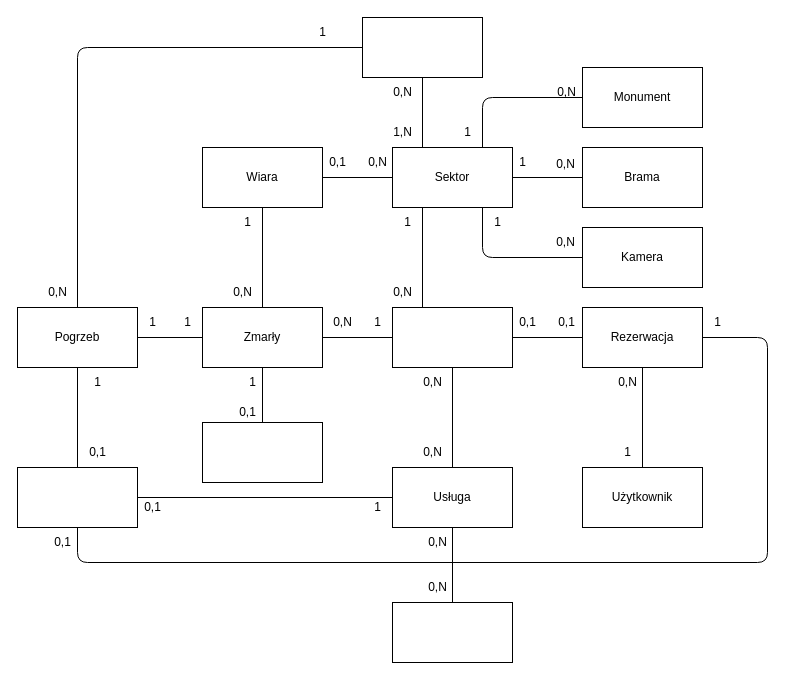
The diagram is 786 pixels wide and 680 high, and some of its shapes have lost their labels. Here are the shapes that lost their labels. From the top down, the box of each, then its label:
(362, 16, 482, 78): Kaplica
(392, 306, 512, 368): Grób
(202, 422, 322, 482): Historia Zmarłego
(16, 466, 138, 528): Płatność
(392, 602, 512, 662): Pracownik
